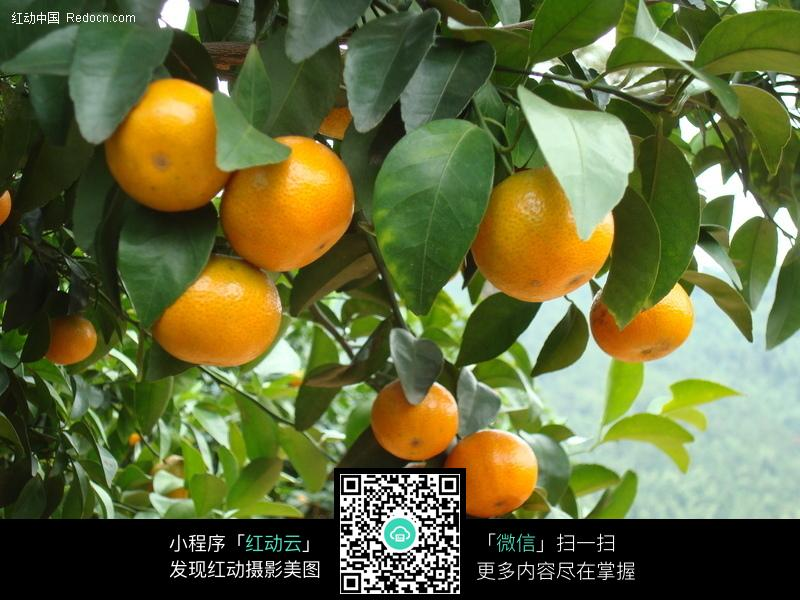orange: (470, 163, 612, 301), (99, 78, 238, 212), (218, 133, 352, 271), (152, 241, 284, 368), (591, 275, 692, 364), (443, 428, 538, 517), (370, 377, 461, 458), (34, 311, 97, 368)
